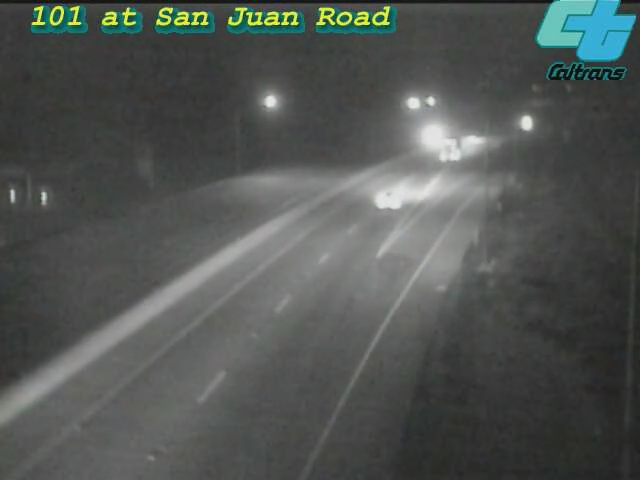vehicle: (352, 155, 432, 235), (408, 110, 458, 160), (505, 98, 555, 148), (451, 115, 501, 165), (426, 125, 476, 175)
